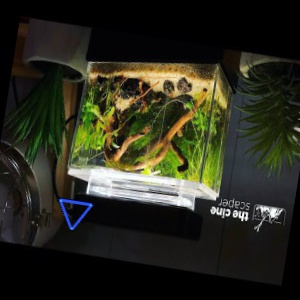triangle: (56, 197, 94, 233)
